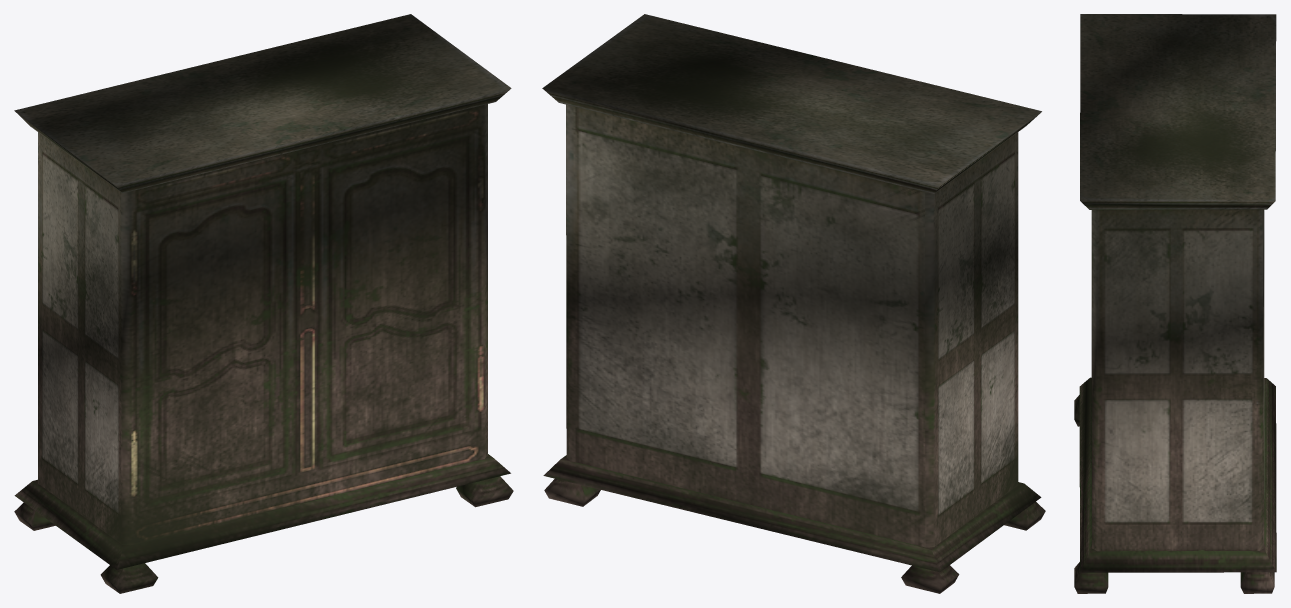
File: armoir.obj
3 views of the same model, side by side, from view 1: azimuth 30°, elevation 25°; view 2: azimuth 150°, elevation 25°; view 3: azimuth 270°, elevation 25° (orthographic). The views are drawn at different scales.
Visible parts, largest first — view 1: armoir; view 2: armoir; view 3: armoir.
Boxes of the visible parts, box(x1,y1,x2,y2) form: armoir: box(14, 14, 513, 593); armoir: box(542, 14, 1045, 593); armoir: box(1074, 14, 1276, 593).
Bounding box in the file's own units: 1.79 × 1.76 × 0.8184.
Materials: 1 (1 with a texture image).
